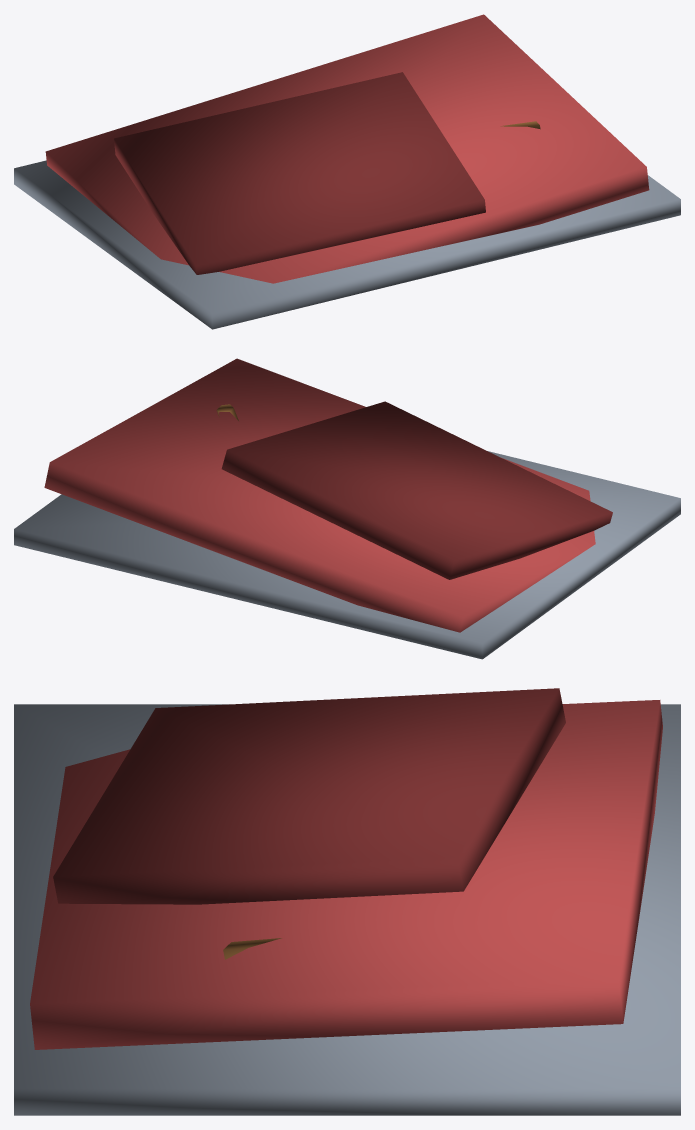
File: district-barn-wreck.glb
3 views of the same model, one above another, from view 1: azimuth 30°, elevation 25°; view 2: azimuth 150°, elevation 25°; view 3: azimuth 270°, elevation 25° (orthographic). The views are drawn at different scales.
Visible parts, largest first — view 1: world; view 2: world; view 3: world.
Part boxes in pixels (left/top/right/bottom): world: left=14, top=14, right=680, bottom=329; world: left=14, top=358, right=680, bottom=659; world: left=14, top=688, right=680, bottom=1115.
Size of the model in its own units: 12 by 2.4 by 8.8.
